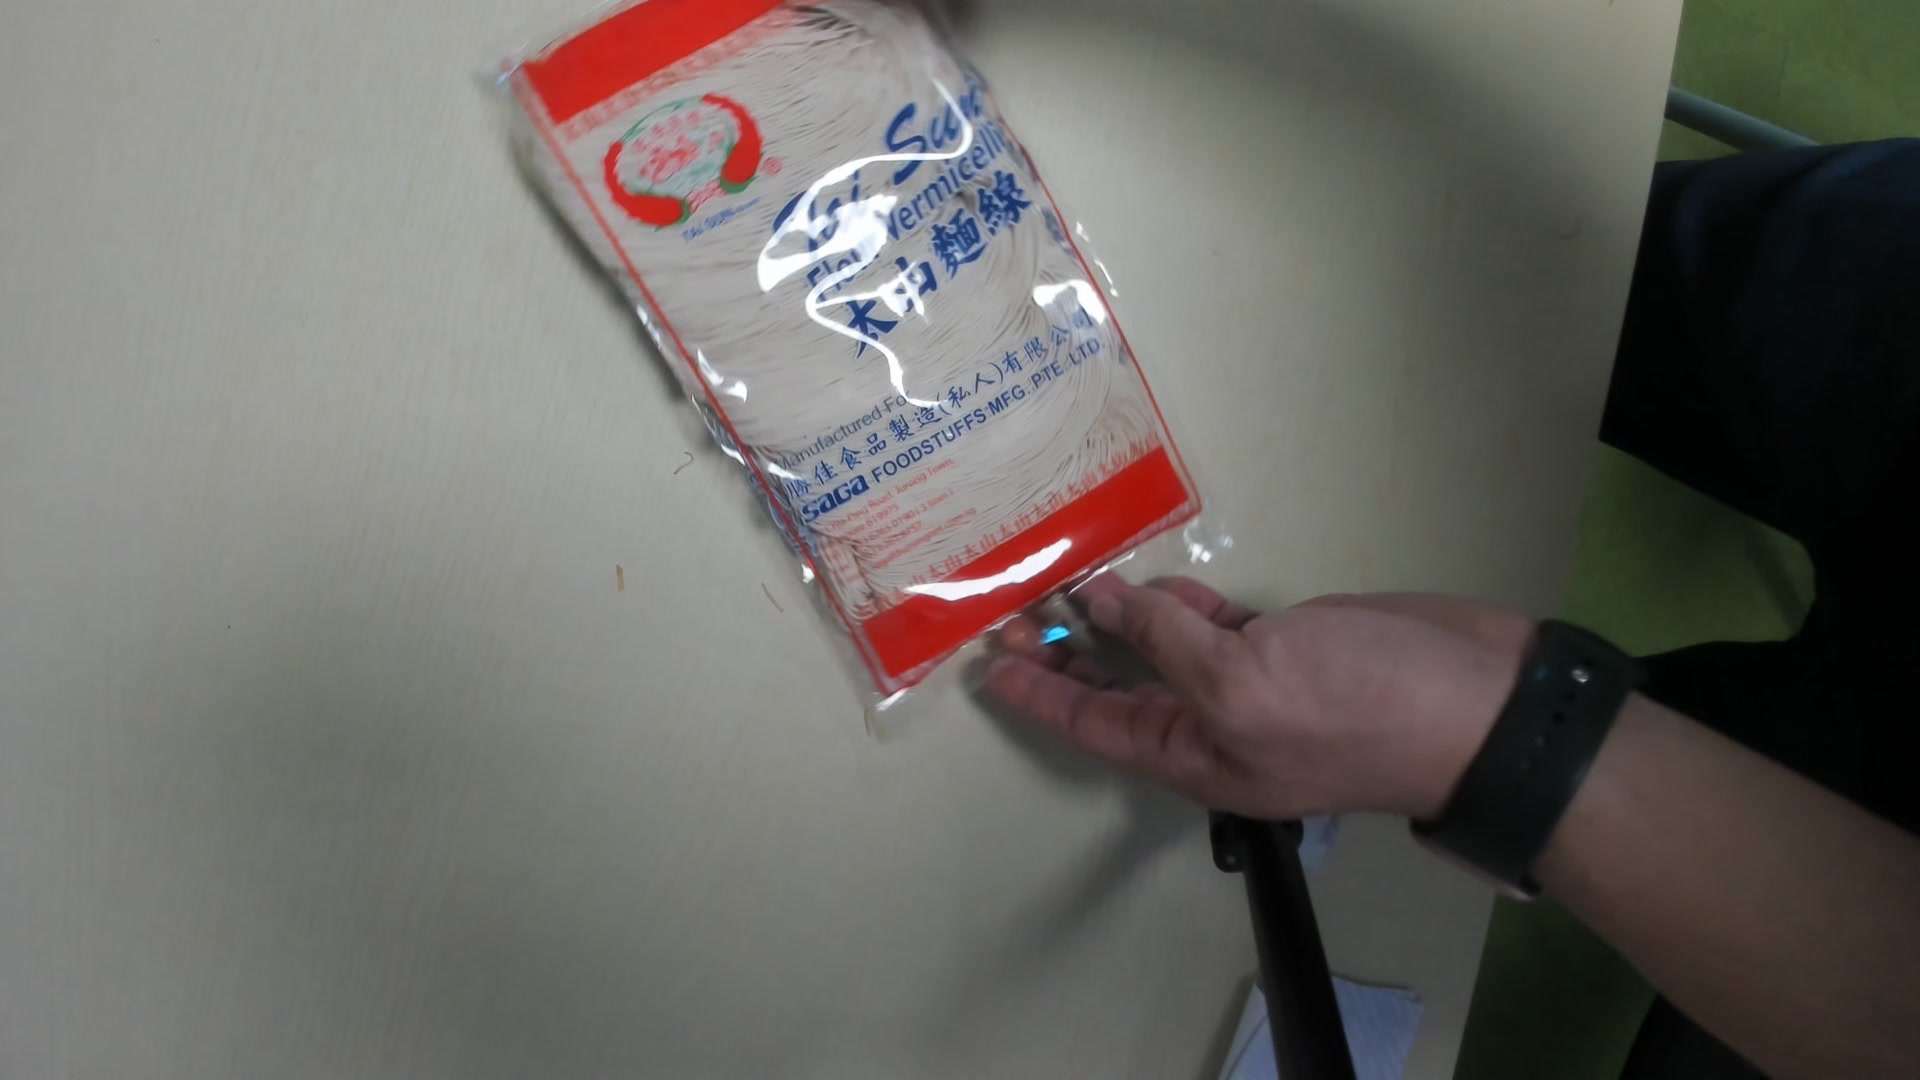BeeHoonVermicelli_300-399g_Halal_NonHealthy: (509, 12, 1247, 738)
